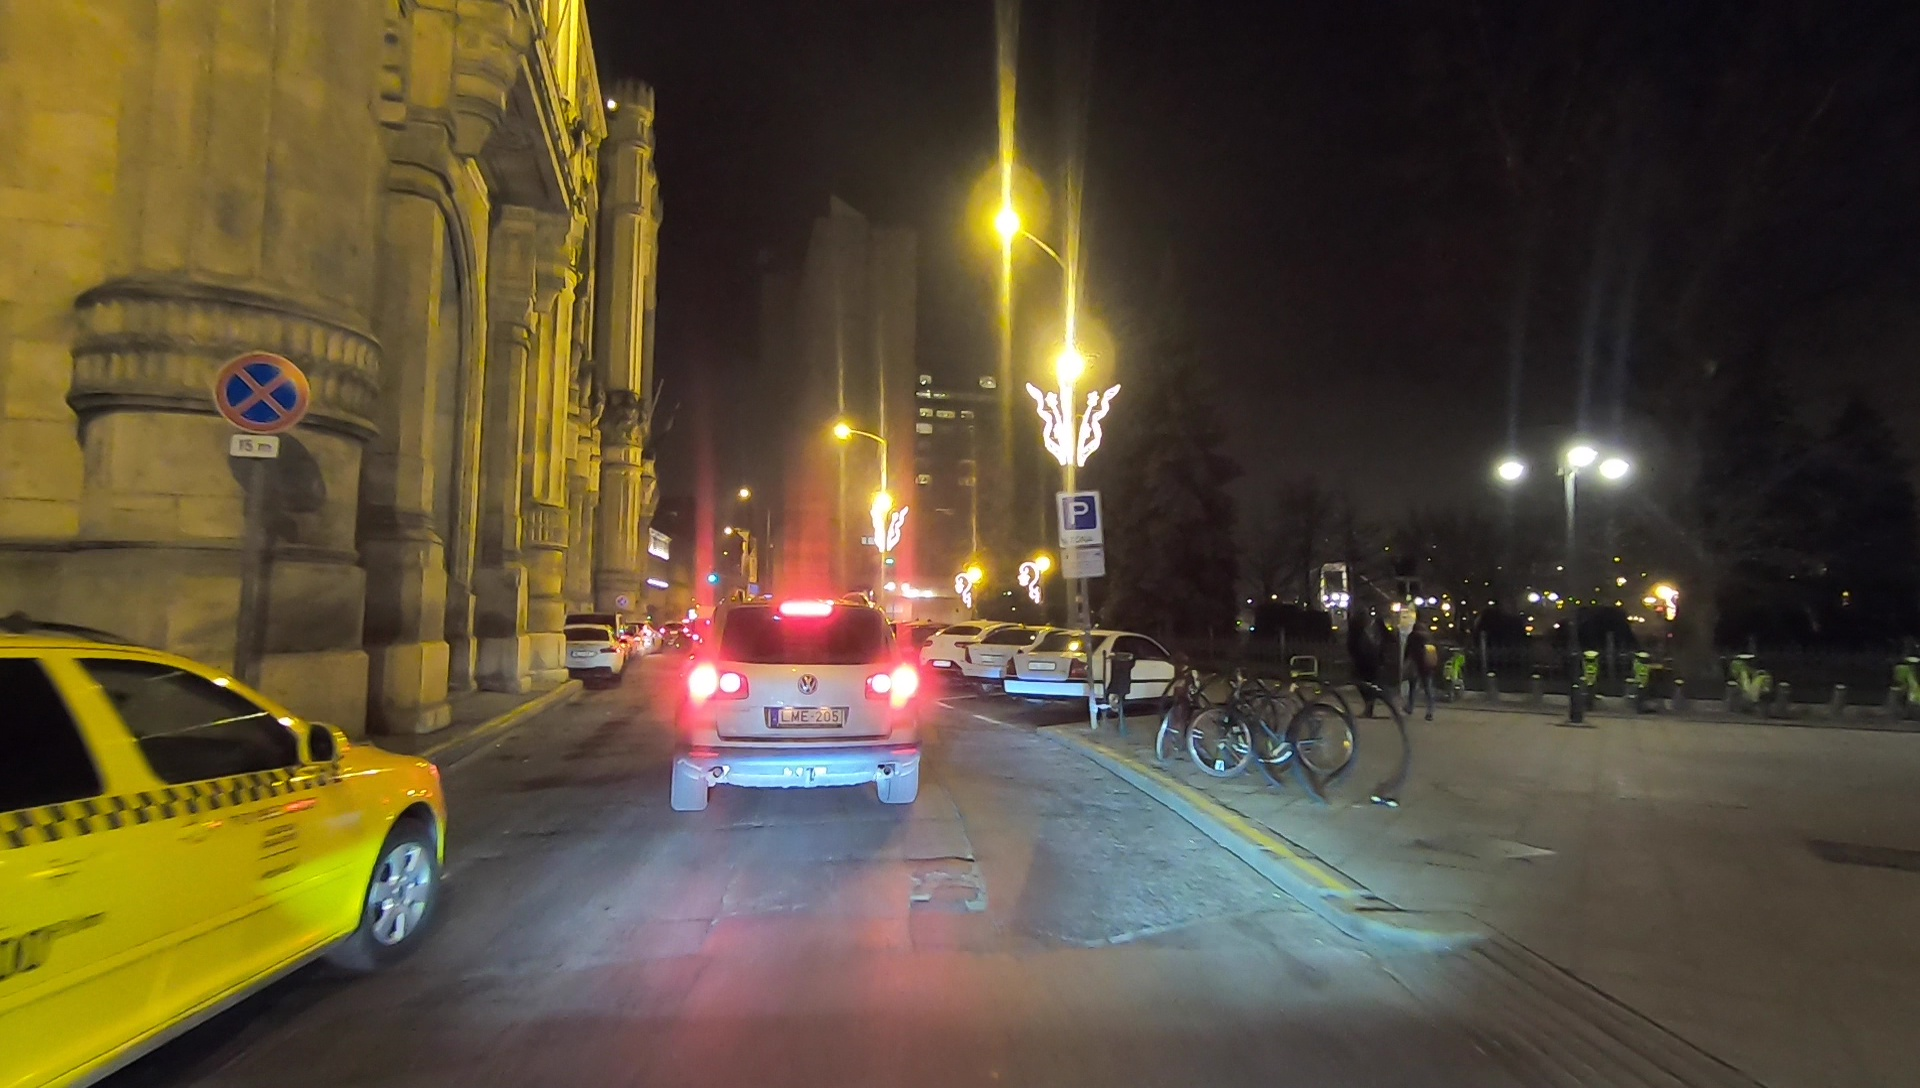person: (1347, 604, 1404, 724), (1401, 623, 1439, 726)
